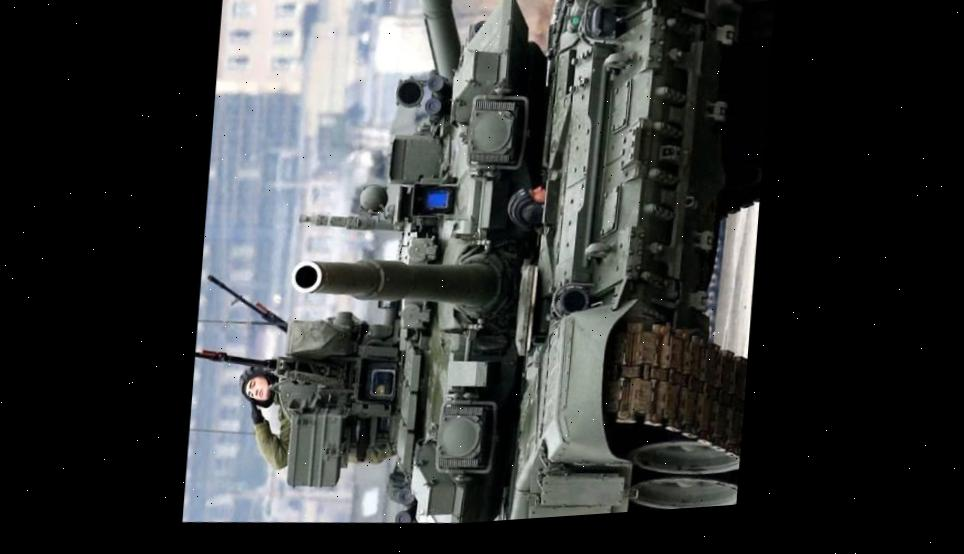tank: (240, 0, 777, 538)
